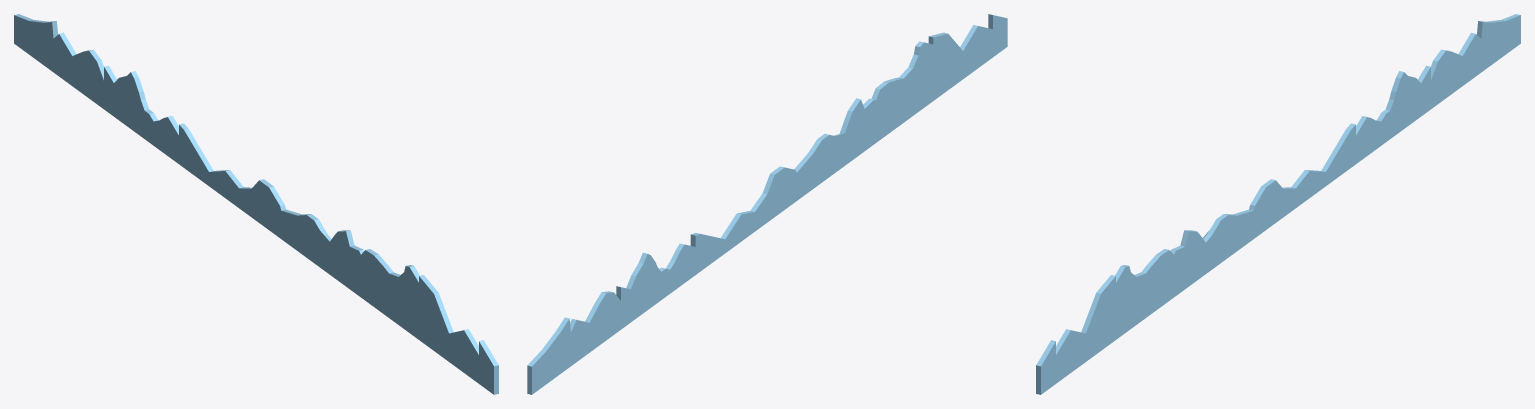
Rendered from BrokenIceWall.fbx.
3 renders of one model, left to right at view 1: azimuth 30°, elevation 25°; view 2: azimuth 150°, elevation 25°; view 3: azimuth 330°, elevation 25°, orthographic.
Parts seen in each view (by area): view 1: Cube; view 2: Cube; view 3: Cube.
Boxes of the visible parts, x1=… form: Cube: x1=14, y1=14, x2=498, y2=394; Cube: x1=527, y1=14, x2=1007, y2=394; Cube: x1=1036, y1=14, x2=1520, y2=394.
Bounding box in the file's own units: 9.13 × 121 × 1591.
